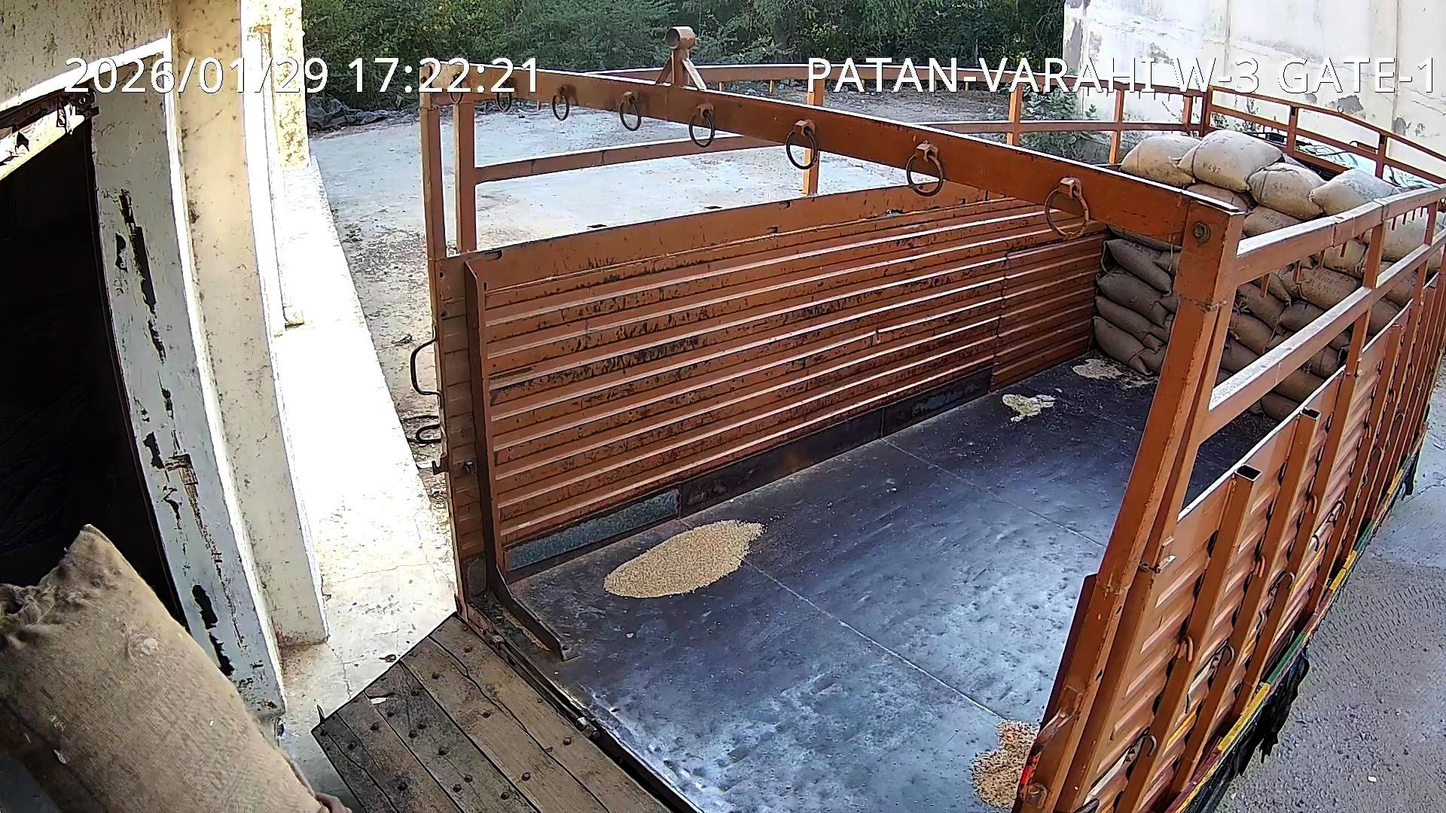Sack: (0, 525, 350, 812)
